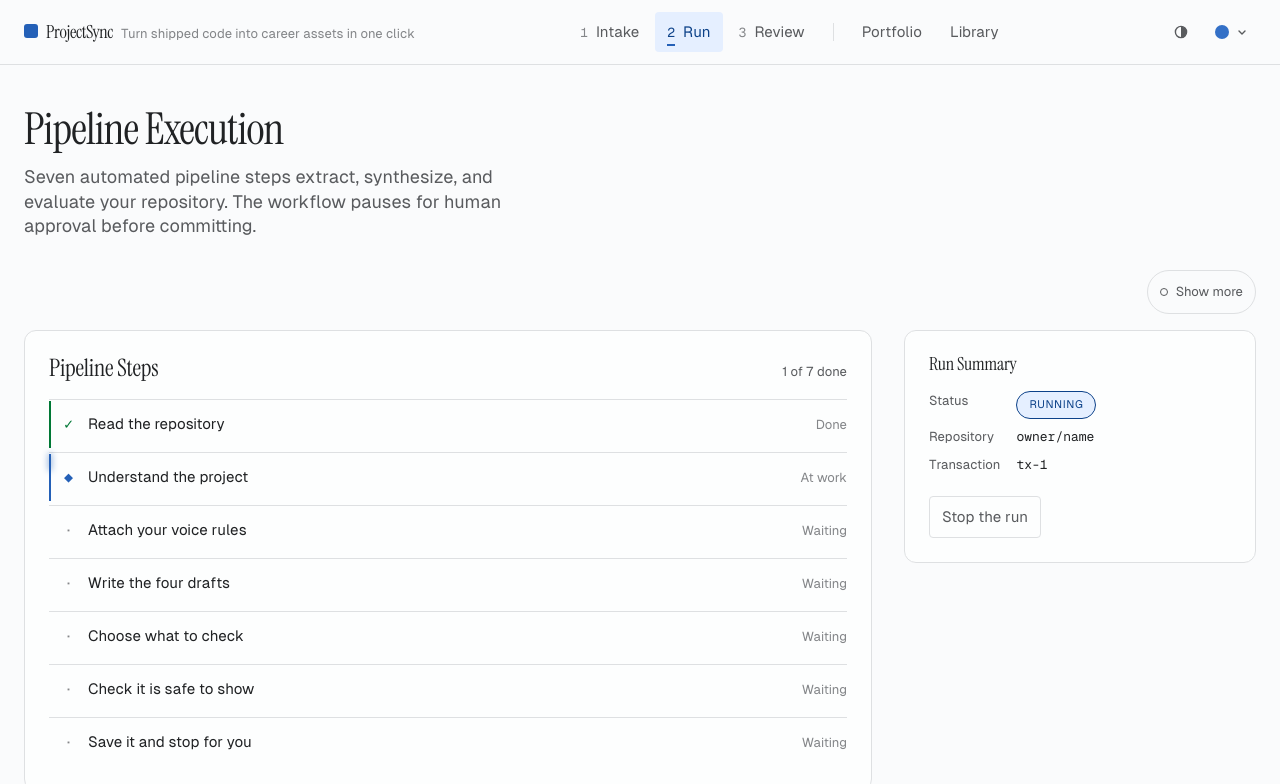
Test: shows the seven steps and their times from the event log
The image size is (1280, 784).
Expected: the text "1 of 7 done" is shown, [782,362,847,383]
Expected: the text "Waiting" is shown 5 times, [802,523,847,538]; [802,576,847,591]; [802,629,847,644]; [802,682,847,697]; [802,735,847,750]
Click the button "Show more": (1201, 292) [1147,270,1256,314]
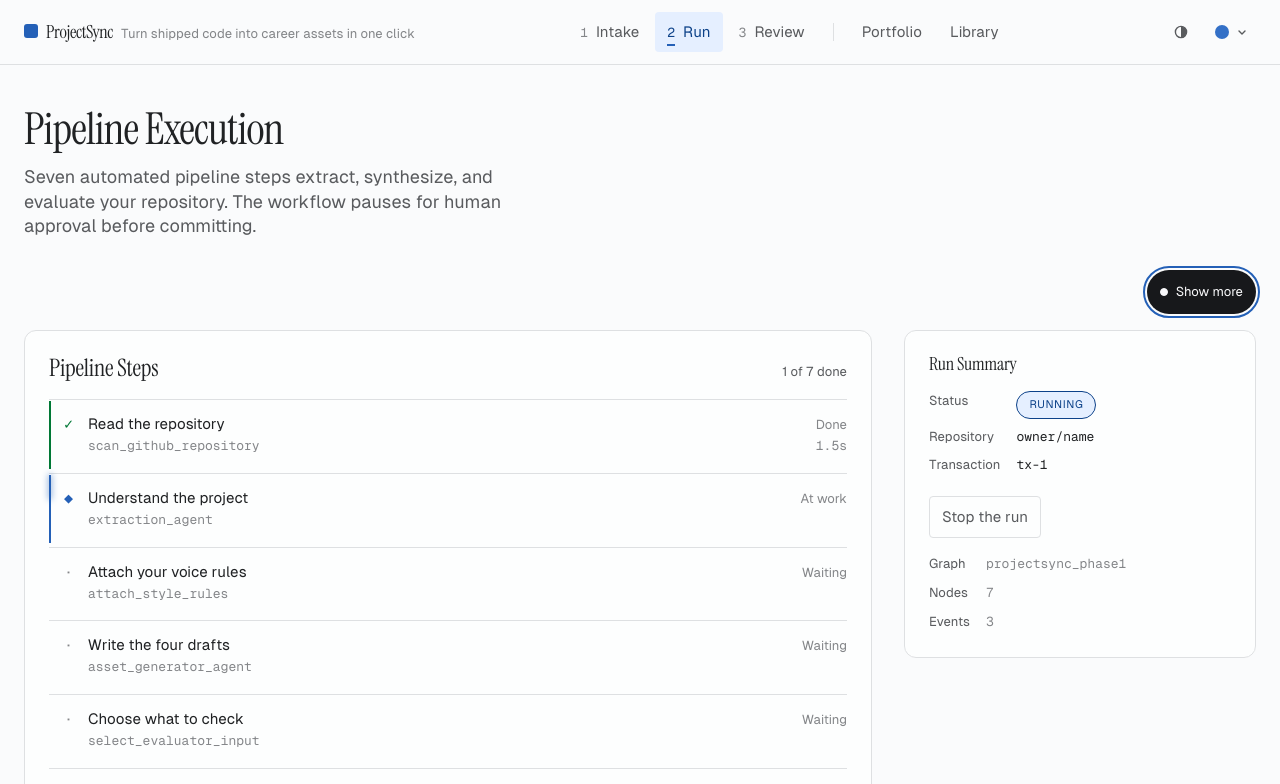
Now the text "1.5s" is shown, box [816,436,847,457]
Now the text "3" next to "Events" is shown, box [986,613,994,630]
